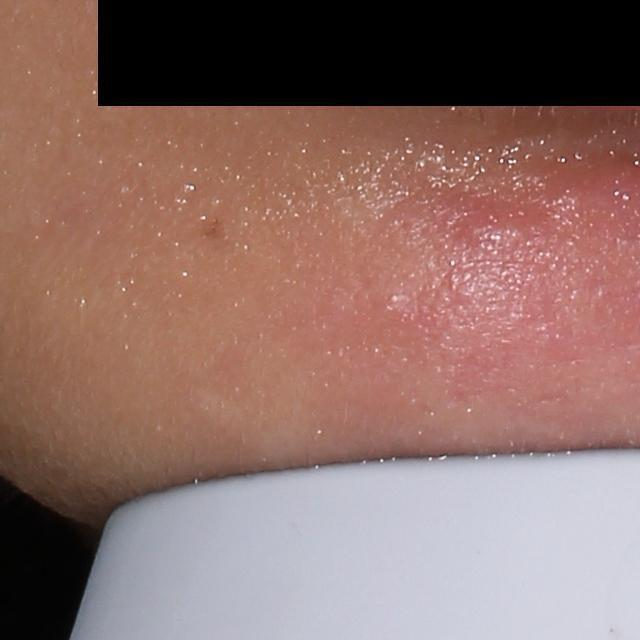papule: (457, 205, 531, 257)
